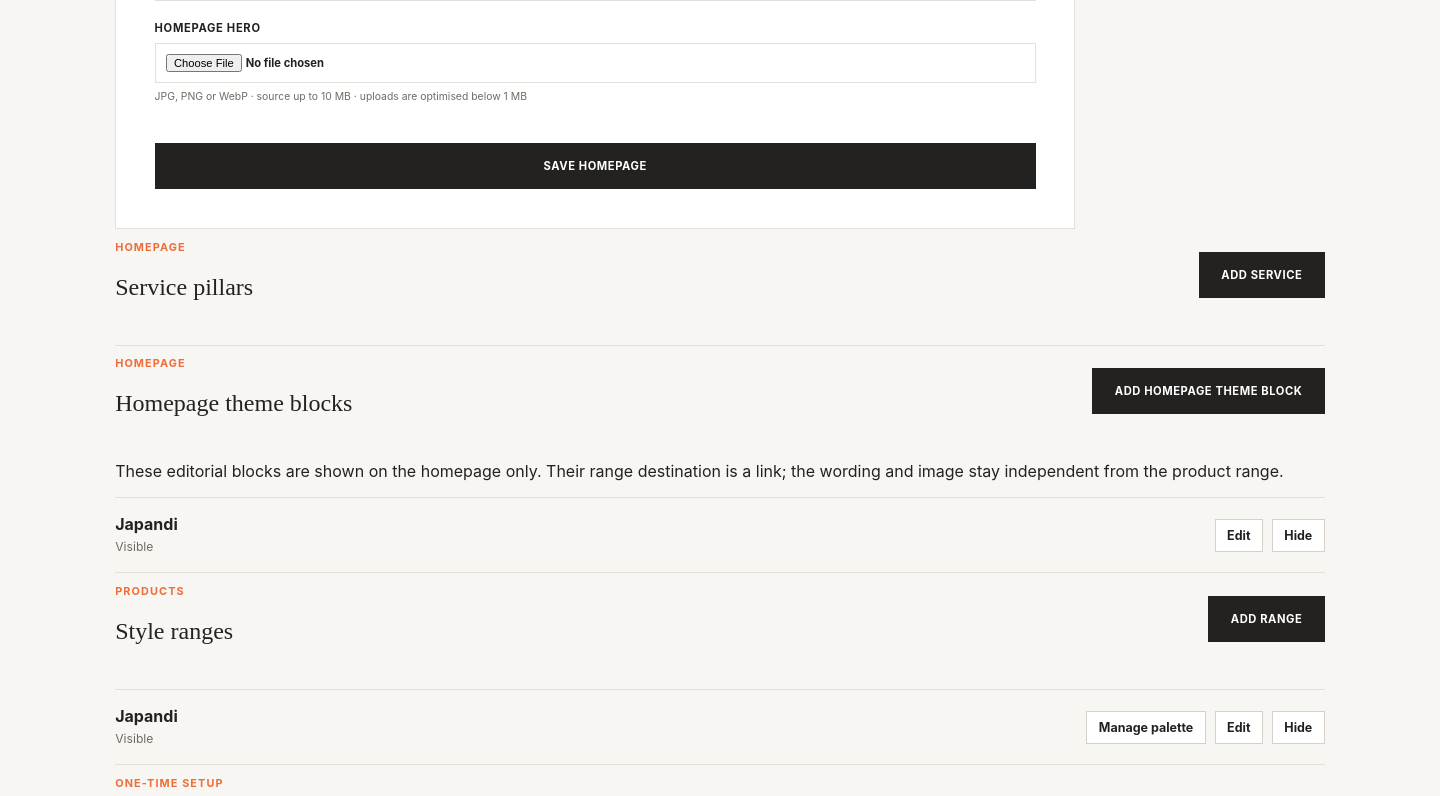
Test: manages homepage theme blocks separately from product range content
The image size is (1440, 796).
(page scrolled)
Expected: the heading "Homepage theme blocks" is shown, top-left (115, 390), bottom-right (352, 417)
Expected: the element named "Japandi homepage theme block actions" is shown, top-left (1215, 519), bottom-right (1325, 552)
Click the button "Add homepage theme block": (1209, 391) top-left (1092, 368), bottom-right (1325, 414)
(page scrolled)
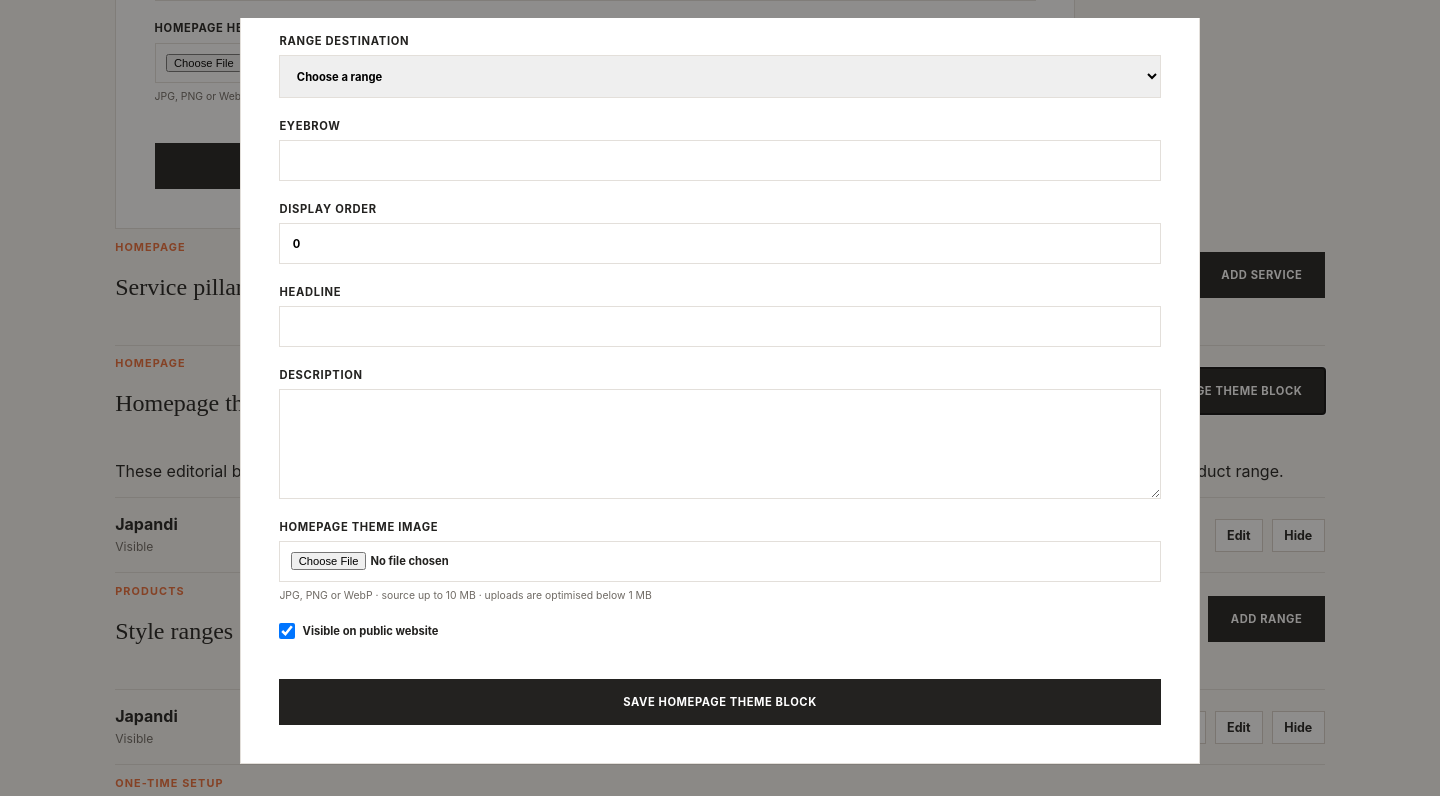
Result: the dropdown labelled "Range destination" is shown at top-left (279, 55), bottom-right (1161, 98)
Result: the button "Save homepage theme block" is shown at top-left (279, 679), bottom-right (1161, 725)
